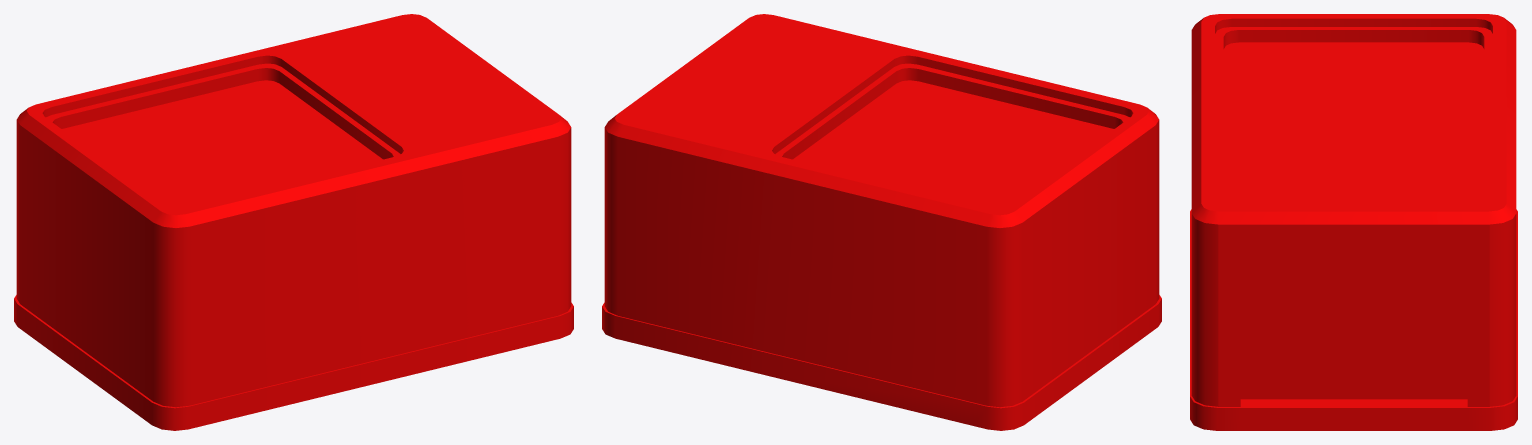
File: boiteseringue.FBX
The picture shows the model from 3 angles, left to right: view 1: azimuth 30°, elevation 25°; view 2: azimuth 150°, elevation 25°; view 3: azimuth 270°, elevation 25°; orthographic projection.
Visible parts, largest first — view 1: aiguille; view 2: aiguille; view 3: aiguille.
Boxes of the visible parts, left/top/right/bottom form: aiguille: left=14, top=14, right=573, bottom=430; aiguille: left=602, top=14, right=1161, bottom=430; aiguille: left=1190, top=14, right=1517, bottom=430.
Bounding box in the file's own units: 2.39 × 1.15 × 1.59.
